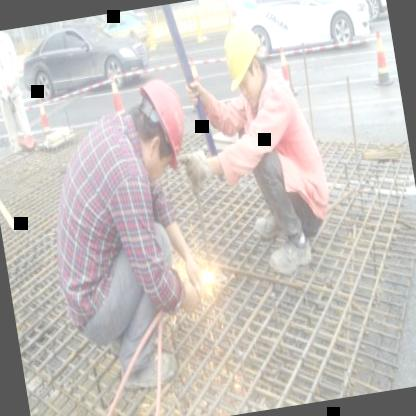helmet: (122, 70, 193, 172), (213, 14, 282, 115)
